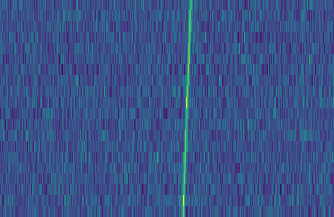signal: (178, 0, 195, 217)
